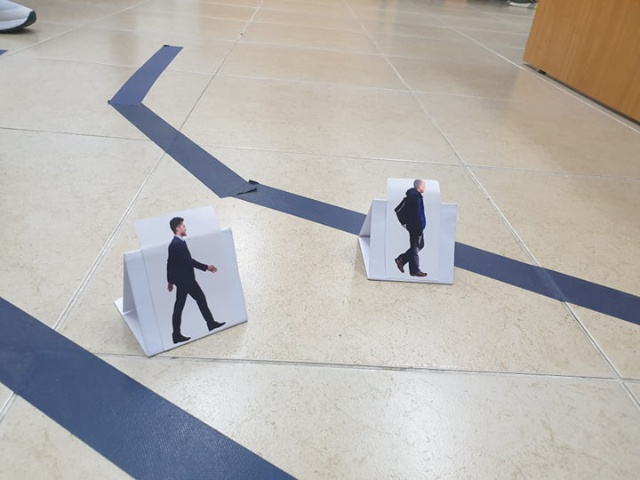Person: (158, 215, 227, 335), (388, 178, 432, 277)
